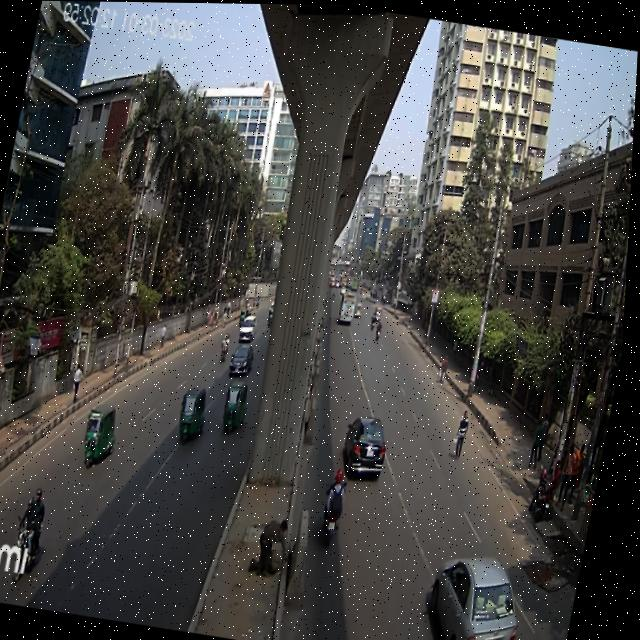cng: (79, 393, 126, 472), (176, 381, 218, 451), (224, 371, 259, 438)
